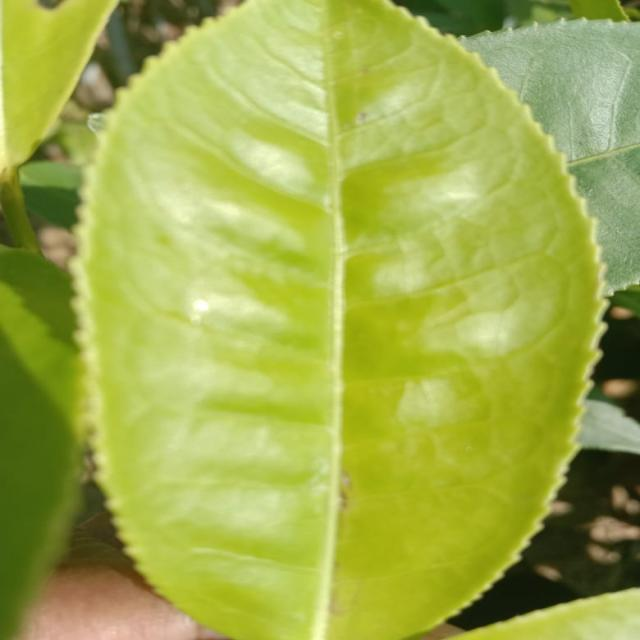Category B(2-4 days): (69, 0, 612, 637)
